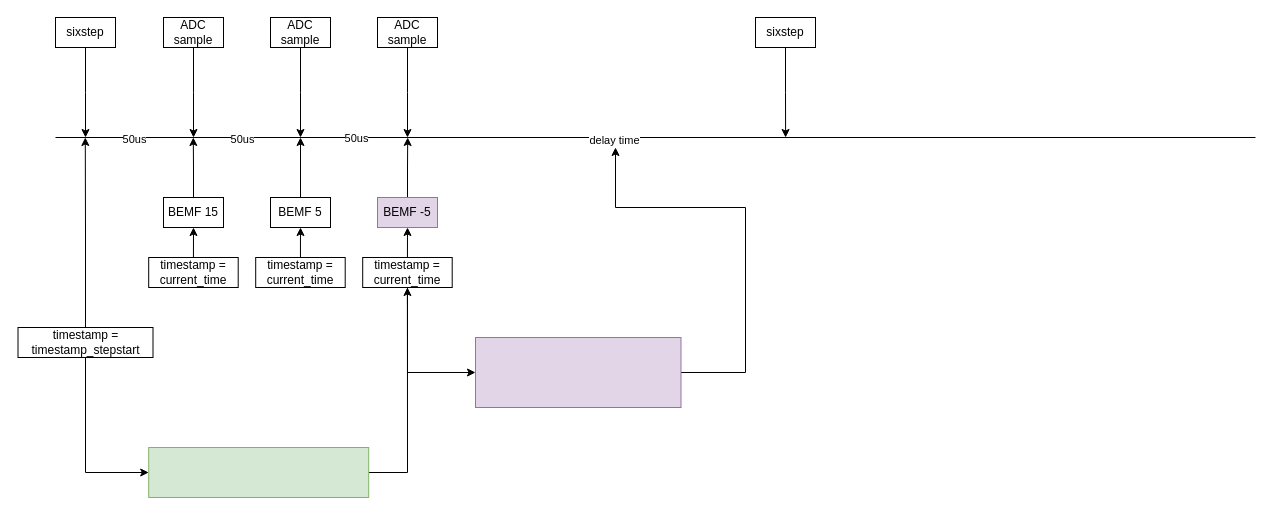
The diagram is 1274 pixels wide and 515 high, and some of its shapes have lost their labels. Each missing label, with the centre of its shape:
delay time = last_zc_timestamp - current_time: (577,372)
zc_duration = current_time - timestamp_stepstart: (258,472)
